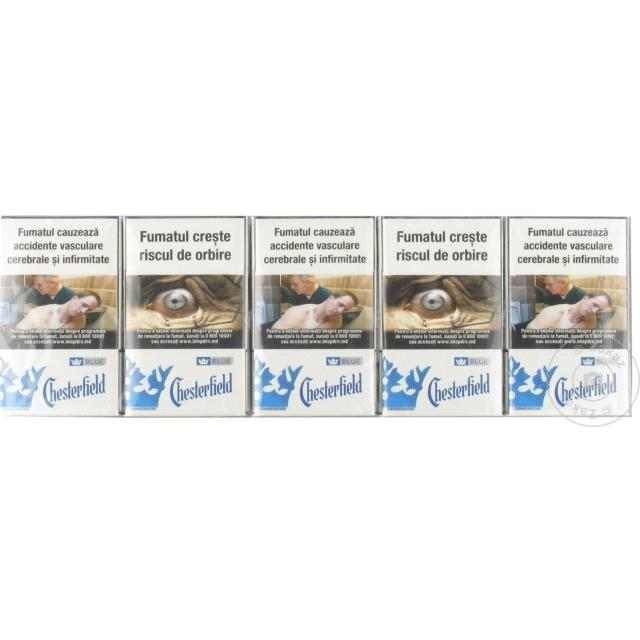chesterfield: (252, 212, 381, 416), (124, 213, 252, 417), (508, 215, 635, 416), (382, 215, 508, 413), (0, 218, 124, 417)
